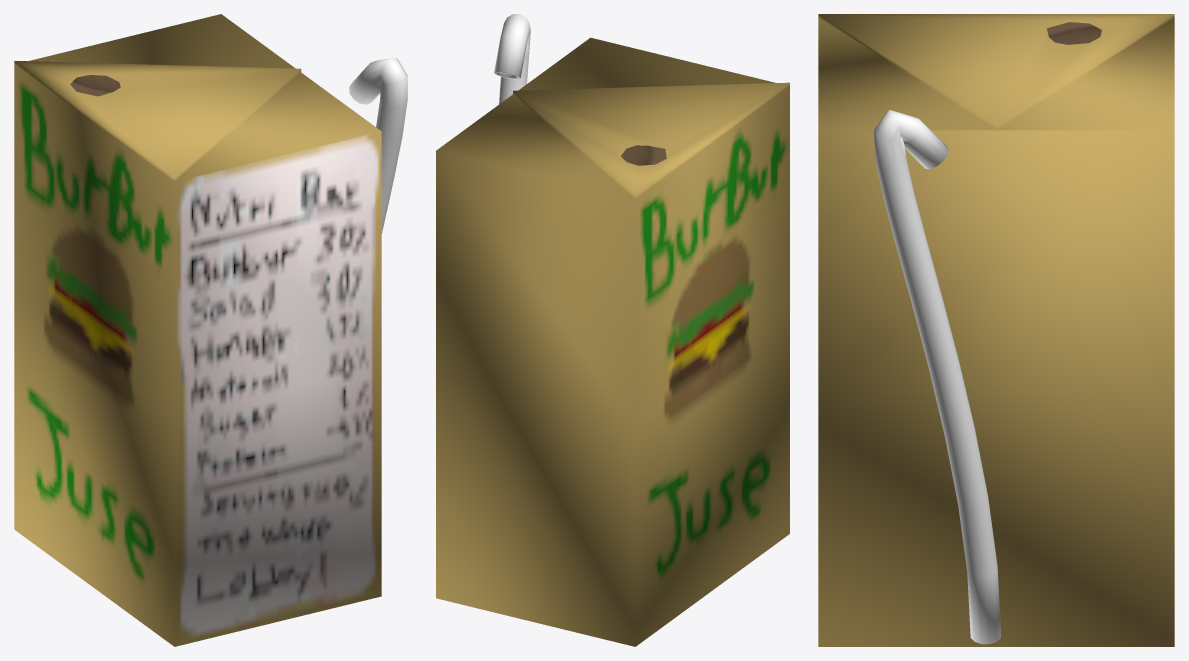
Rendered from item-burbur-juse.glb.
3 views of the same model, side by side, from view 1: azimuth 30°, elevation 25°; view 2: azimuth 150°, elevation 25°; view 3: azimuth 270°, elevation 25° (orthographic). The views are drawn at different scales.
Bounding box in the file's own units: 0.0768 × 0.14 × 0.0808.
3 materials, 2 textured.
